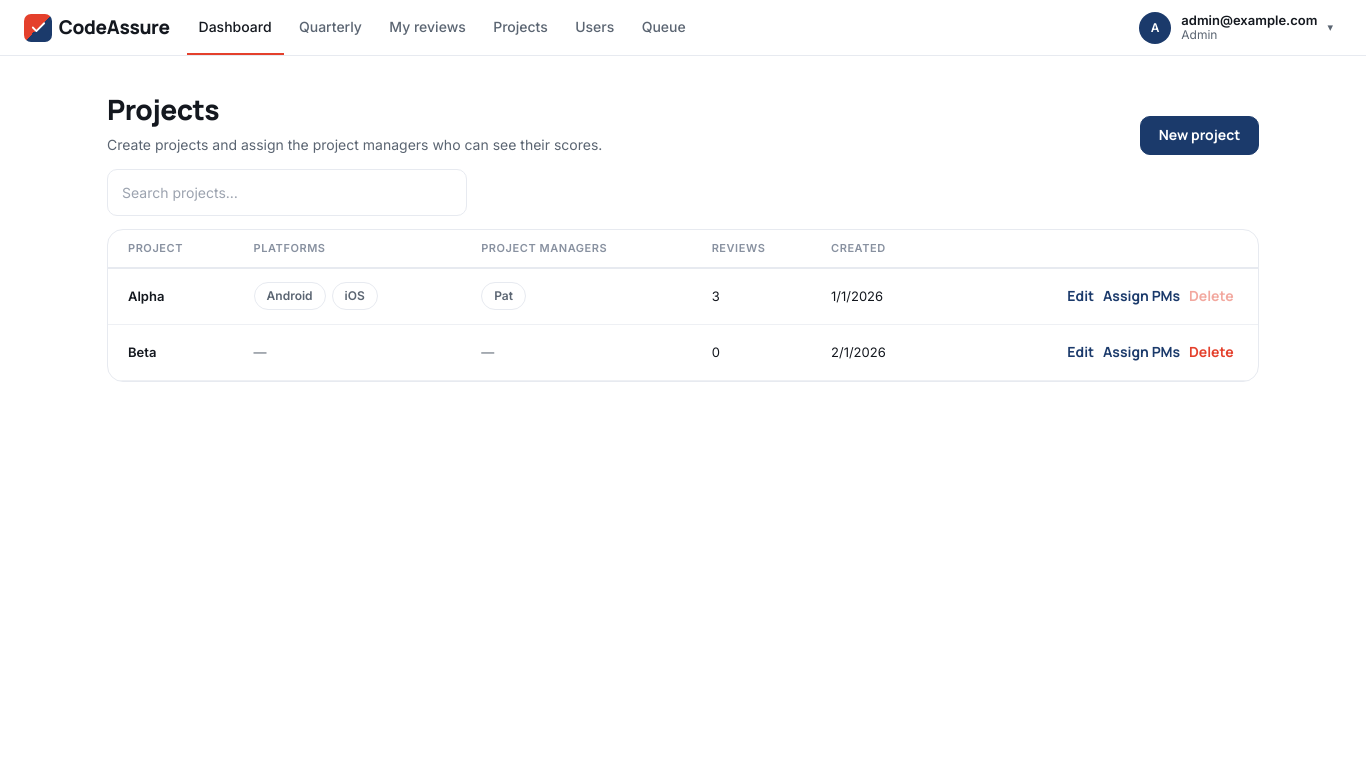
Scenario: deleting an empty project after confirmation
Expected: the text "Beta" is shown, [108,324,242,381]
Click the button with aria-label "Delete Beta".
click(1211, 352)  # box [1184,333,1238,372]
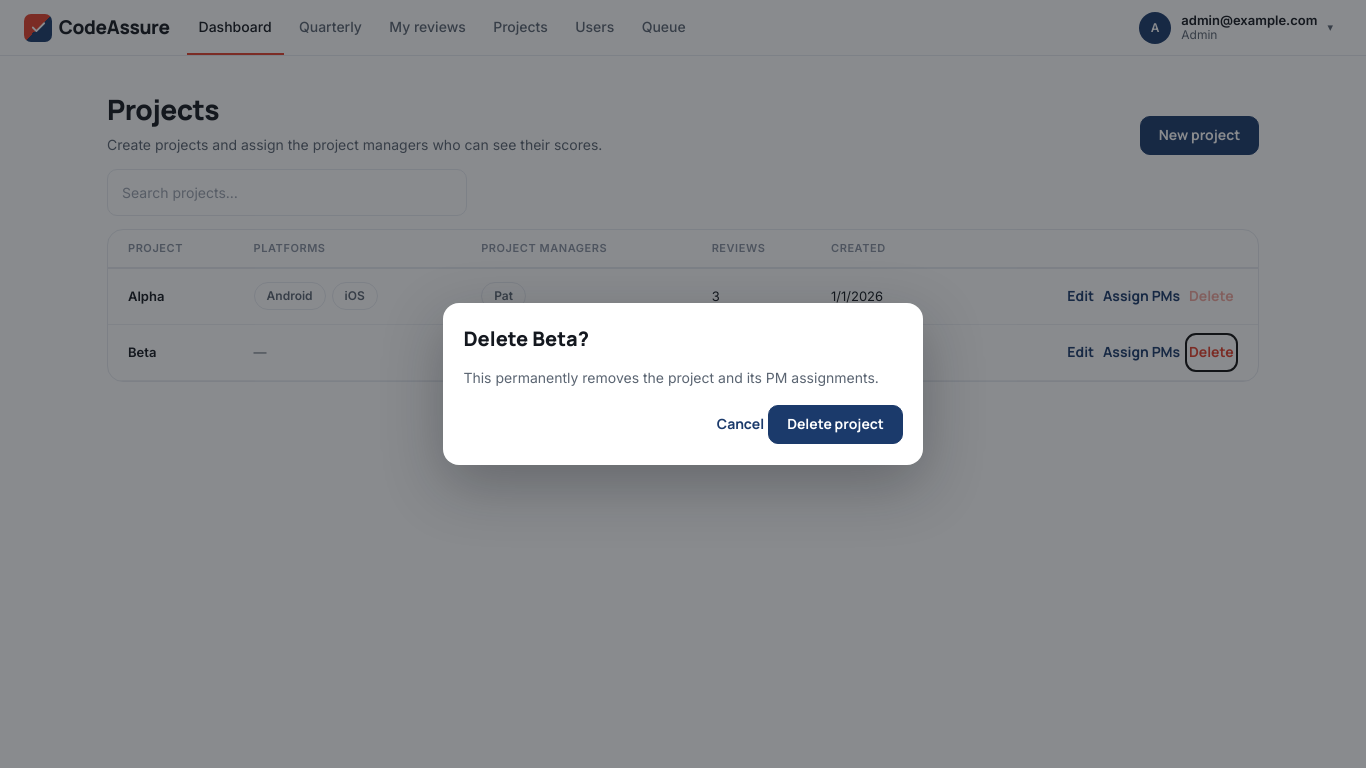
Click the button "Delete project".
click(836, 425)  # box [768,405,903,444]
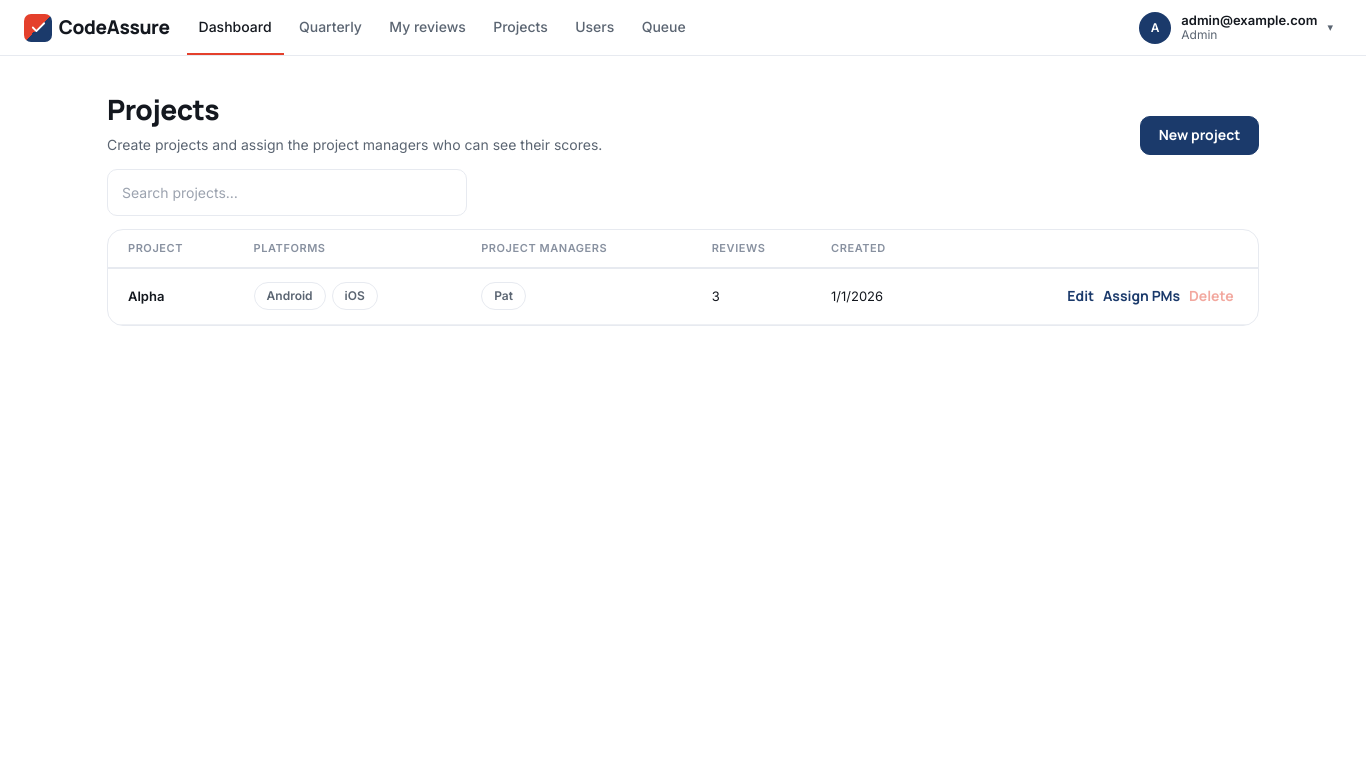
Now the text "Beta" is gone
